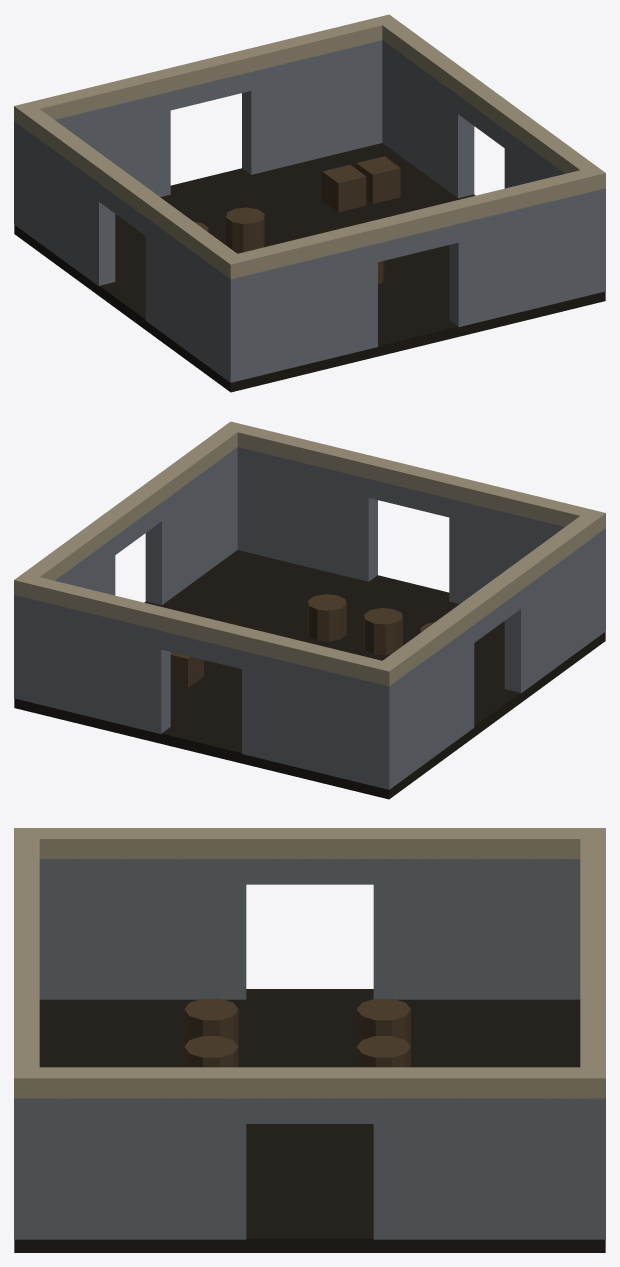
Rendered from StorehouseRoom.fbx.
The picture shows the model from 3 angles, top to bottom: view 1: azimuth 30°, elevation 25°; view 2: azimuth 150°, elevation 25°; view 3: azimuth 270°, elevation 25°; orthographic projection. The views are drawn at different scales.
Visible parts, largest first — view 1: StorehouseRoom; view 2: StorehouseRoom; view 3: StorehouseRoom.
Part boxes in pixels (left/top/right/bottom): StorehouseRoom: left=14, top=14, right=605, bottom=392; StorehouseRoom: left=14, top=421, right=605, bottom=799; StorehouseRoom: left=14, top=828, right=605, bottom=1252.
Size of the model in its own units: 1202 by 392 by 1202.
4 materials, 4 textured.
